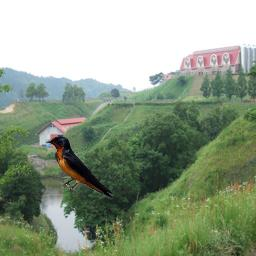Swallow: (45, 136, 113, 199)
